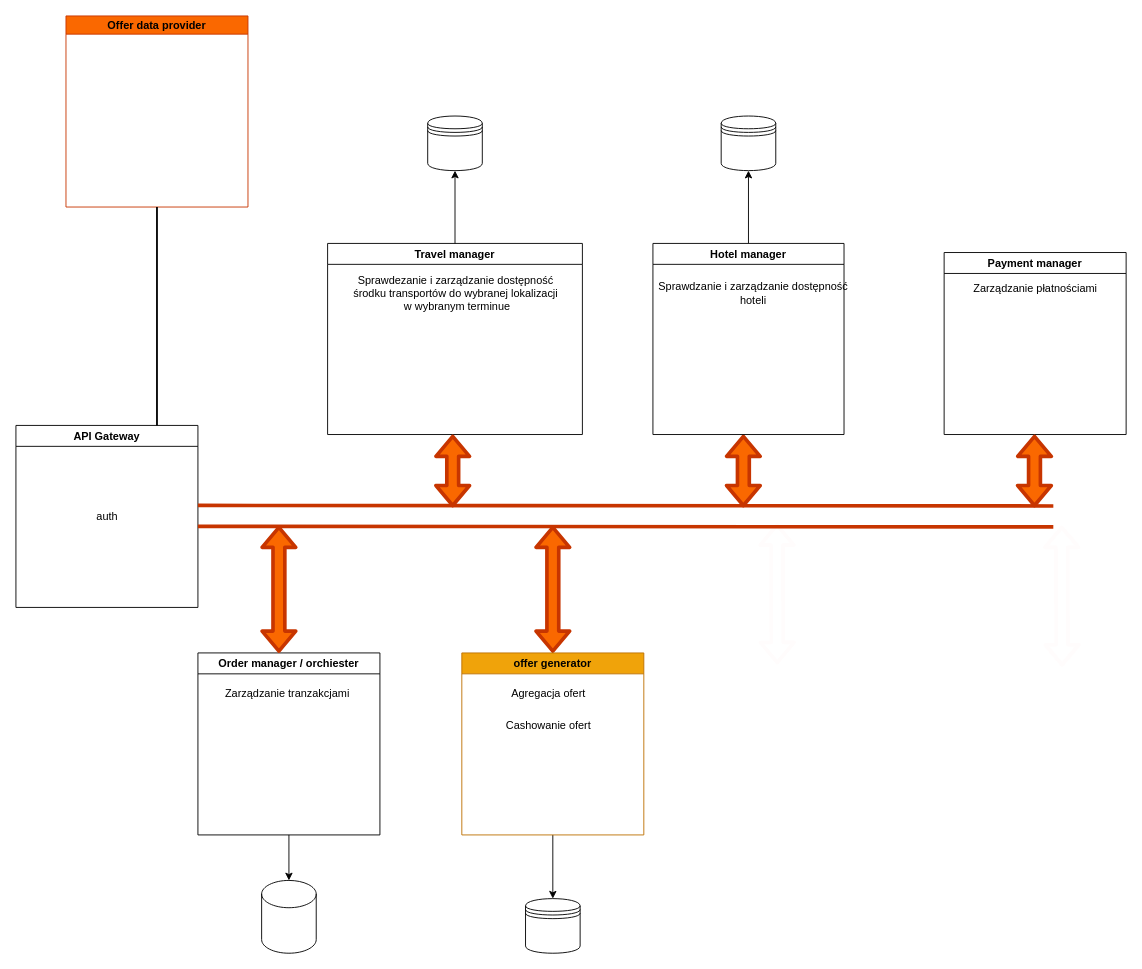
The diagram is 1142 pixels wide and 969 high, and some of its shapes have lost their labels. The shapes that lost their labels are listed below. From the top down, each one's centre as x and y in pixels, then its label:
At (454,143): "No-SQL".
At (748,143): "SQL".
At (288,916): "order database".
At (552,925): "NO SQL".
